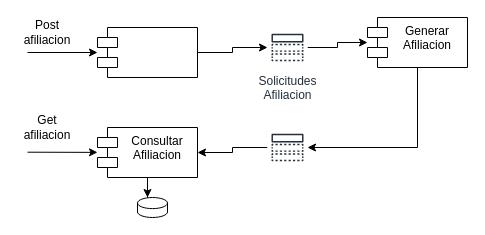
The diagram is 485 pixels wide and 235 high, and some of its shapes have lost their labels. Here are the shapes that lost their labels. From the top down, the centre of each, then its label:
(147,52): Solicitar Afiliacion
(287,147): Afiliaciones Confirmadas
